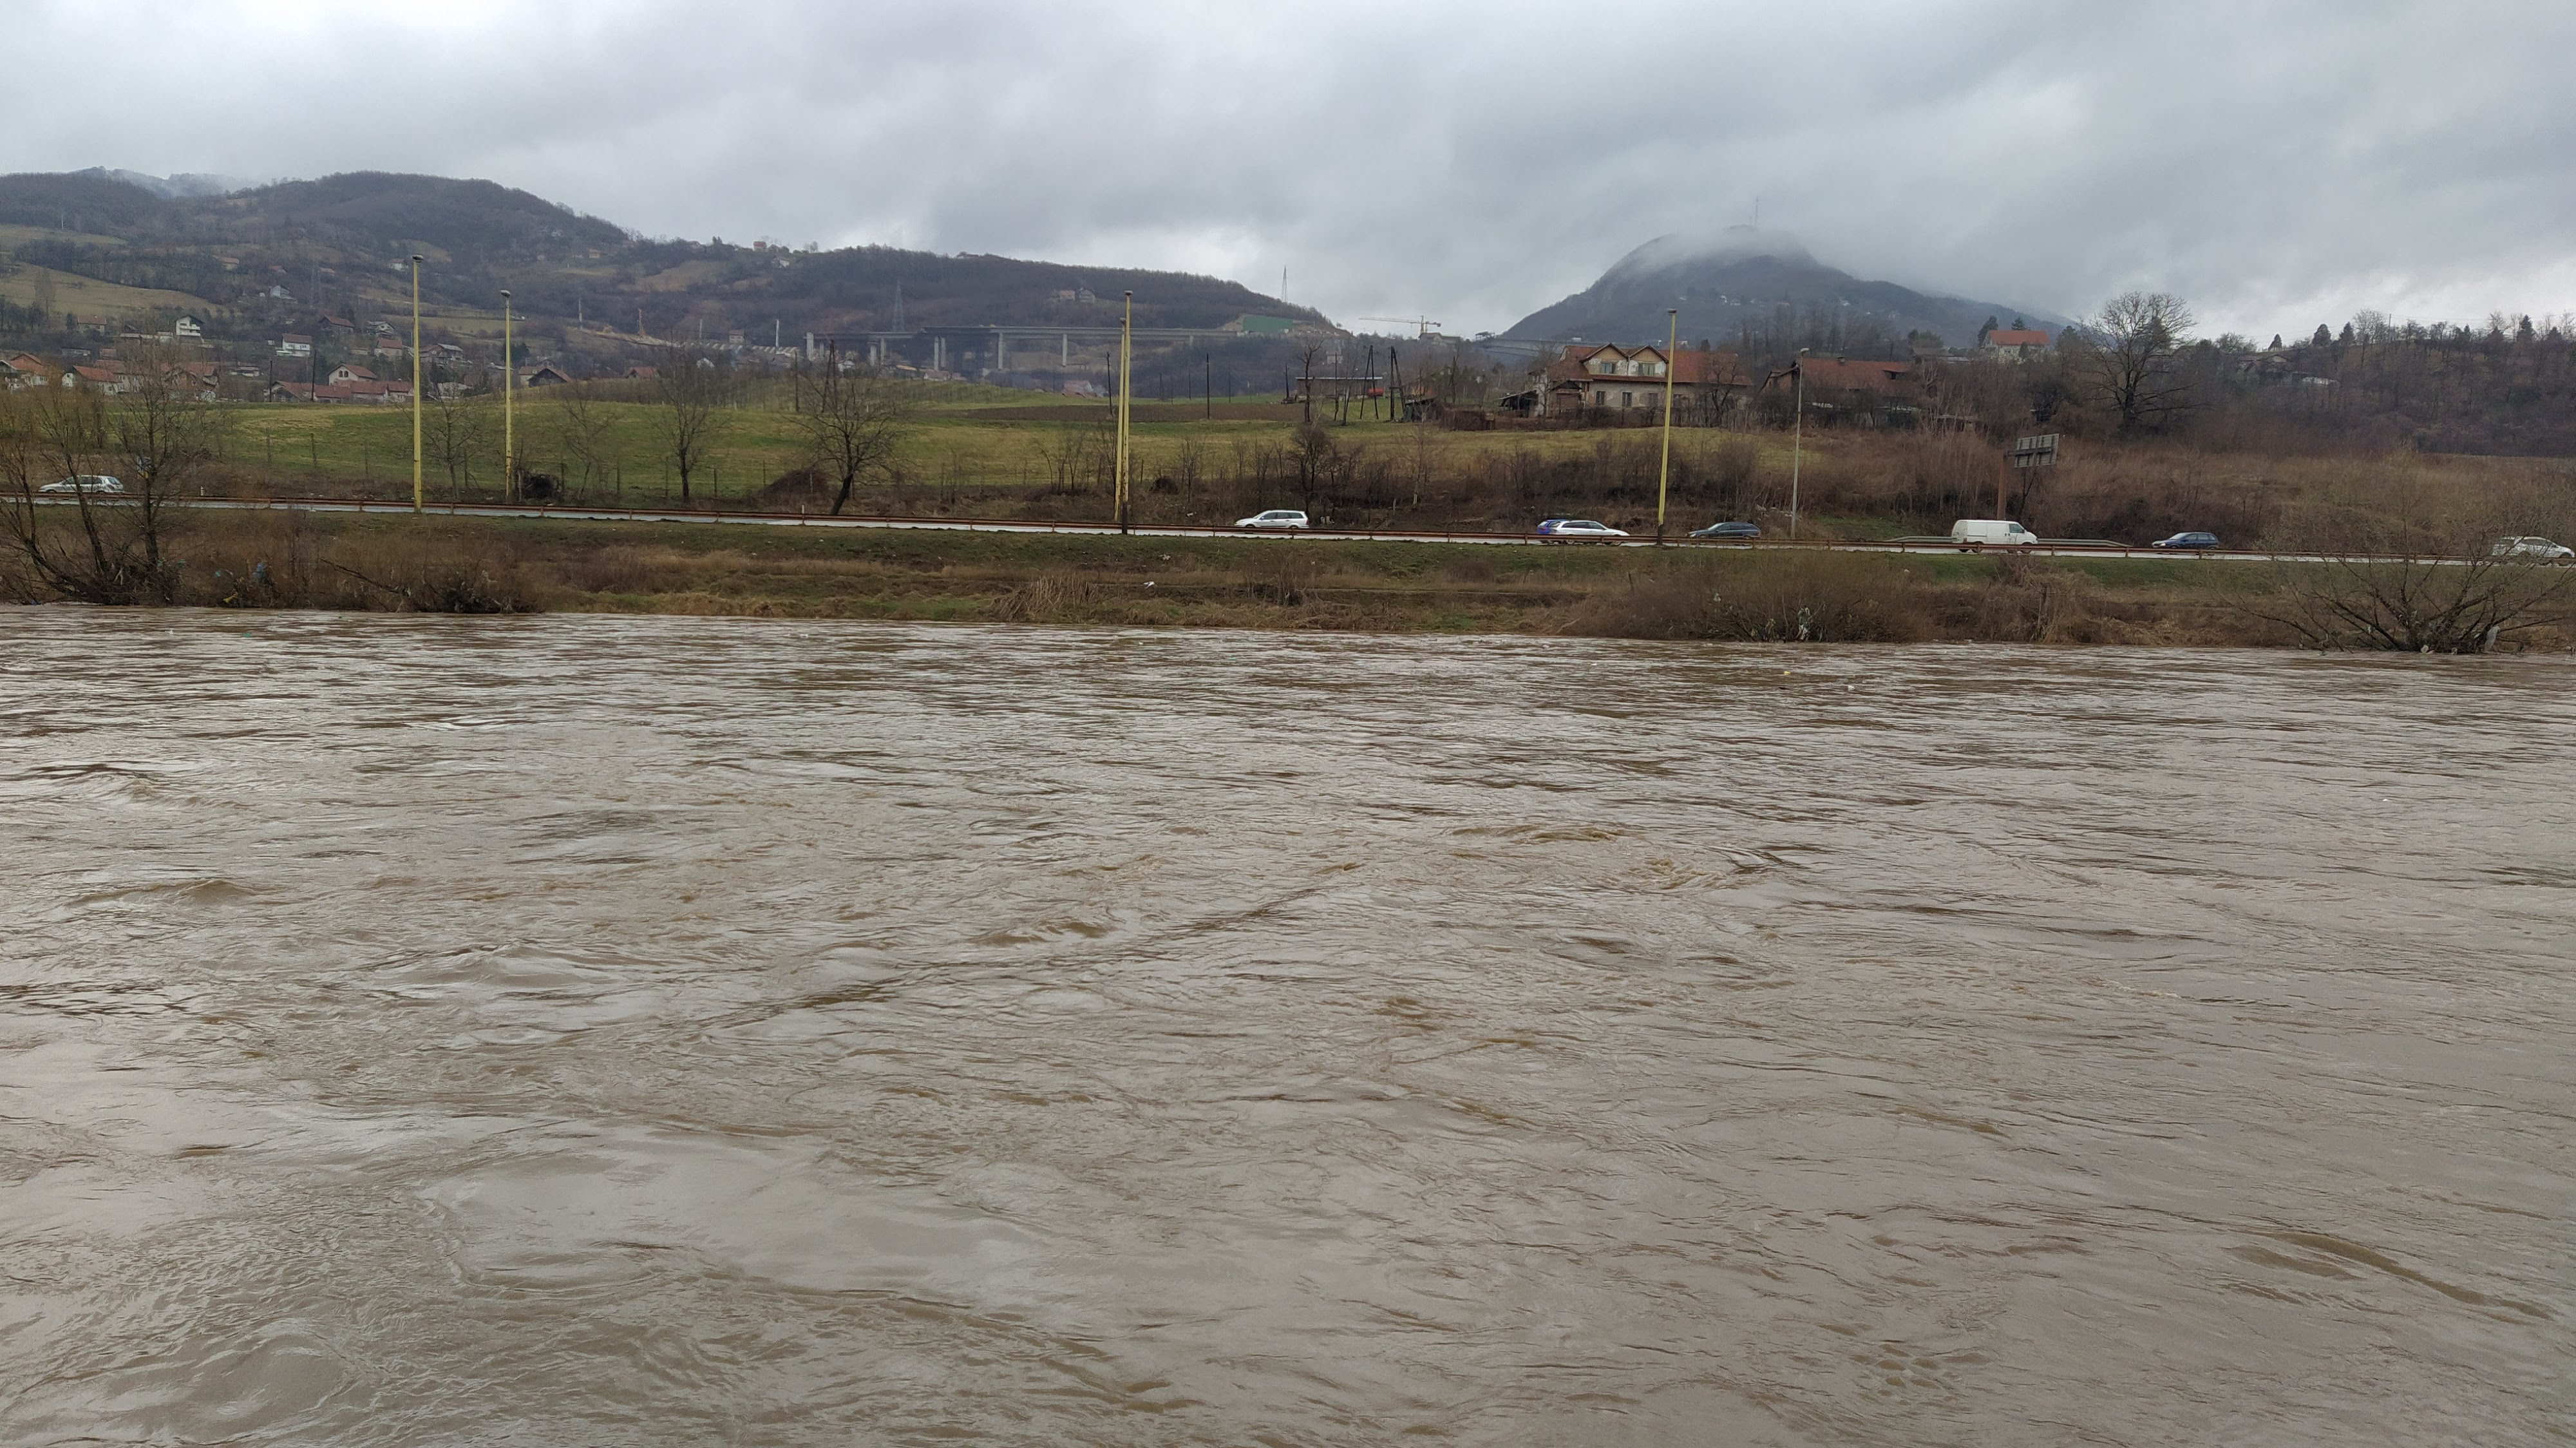Plastic Bottle: (1836, 678, 1847, 683), (241, 632, 249, 635), (800, 634, 807, 637), (1785, 671, 1789, 673)
